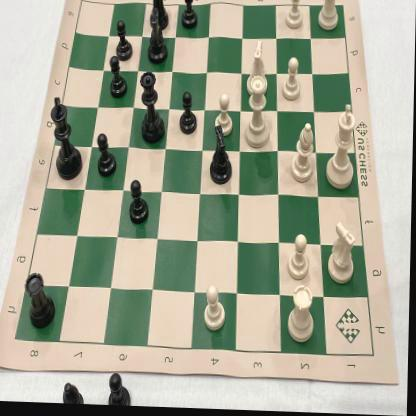black-king: (48, 96, 88, 187)
black-knight: (206, 124, 237, 188), (143, 10, 172, 68)
black-pawn: (126, 178, 152, 228), (95, 130, 118, 184), (178, 90, 202, 139), (107, 57, 128, 104), (113, 21, 134, 66), (177, 0, 201, 35)
black-queen: (137, 74, 171, 150)
black-rook: (24, 265, 60, 334), (148, 0, 173, 32)
white-bishop: (288, 119, 320, 187)
white-king: (326, 102, 363, 195)
white-pawn: (204, 282, 230, 337), (287, 232, 313, 284), (278, 55, 304, 106), (214, 91, 238, 140), (284, 0, 306, 32)
white-queen: (242, 75, 275, 152)
white-rook: (326, 218, 361, 288), (286, 282, 322, 346), (244, 36, 272, 98), (315, 0, 345, 34)
